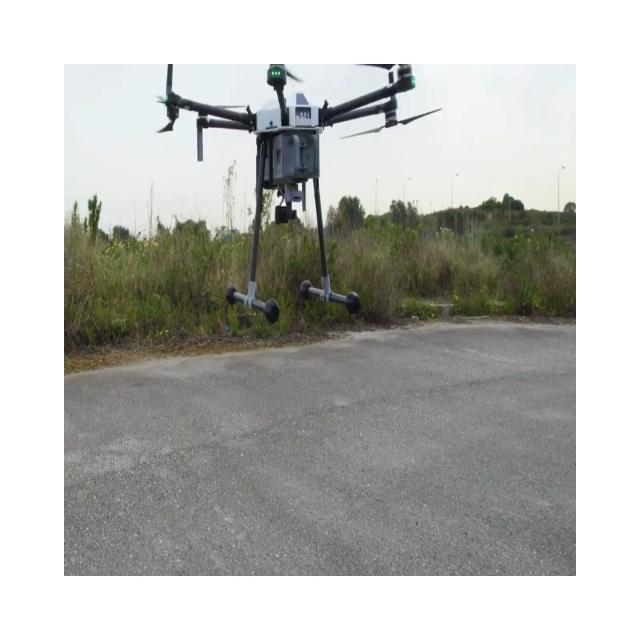drone: (155, 60, 443, 325)
